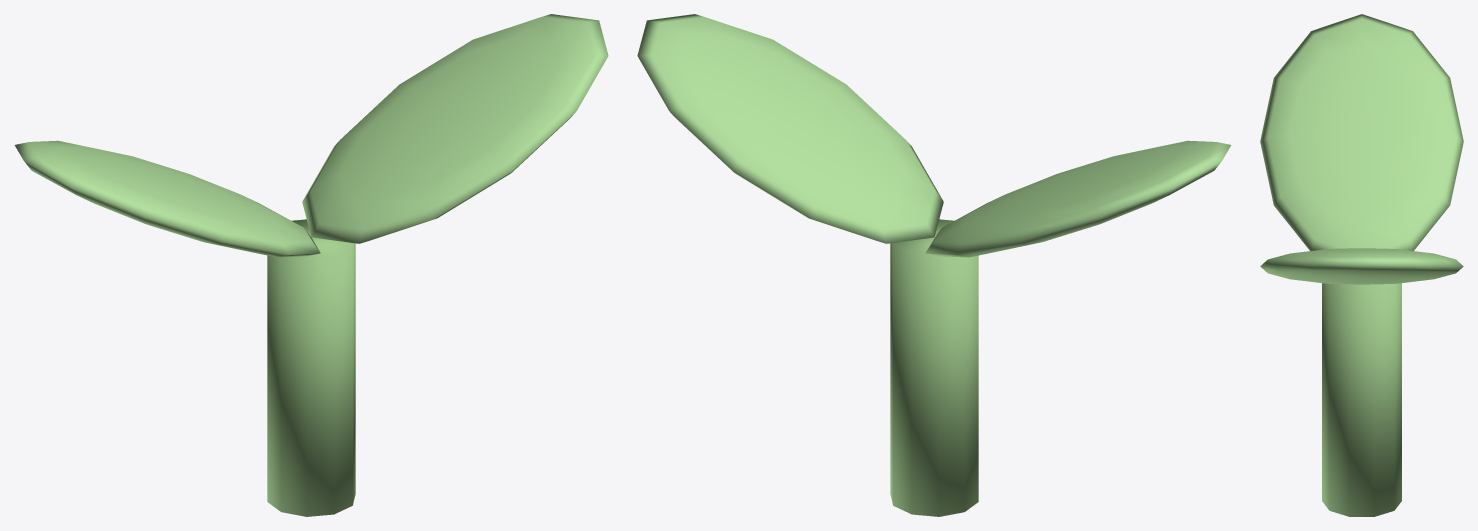
The model's file is VCrop_Potato_2.fbx.
The picture shows the model from 3 angles, left to right: view 1: azimuth 30°, elevation 25°; view 2: azimuth 150°, elevation 25°; view 3: azimuth 270°, elevation 25°; orthographic projection. The views are drawn at different scales.
Visible parts, largest first — view 1: VCrop_Potato_2; view 2: VCrop_Potato_2; view 3: VCrop_Potato_2.
Boxes of the visible parts, box(x1,y1,x2,y2) form: VCrop_Potato_2: box(14, 14, 608, 516); VCrop_Potato_2: box(637, 14, 1231, 516); VCrop_Potato_2: box(1260, 14, 1463, 516).
Bounding box in the file's own units: 0.1618 × 0.1097 × 0.0558.
